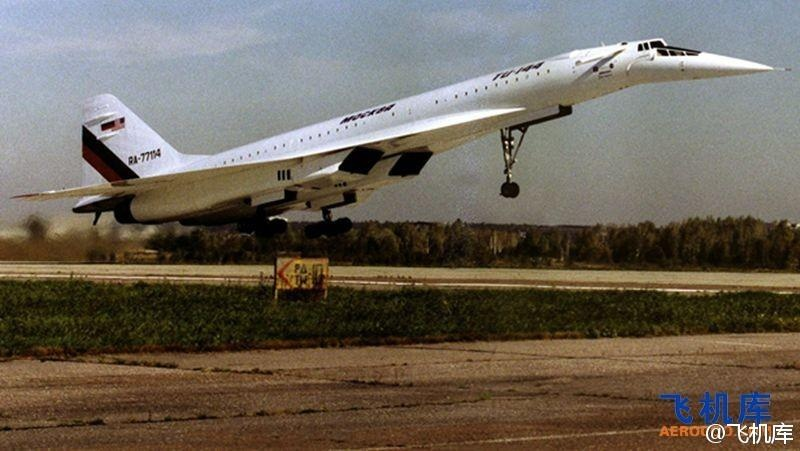airplane: (4, 34, 788, 247)
